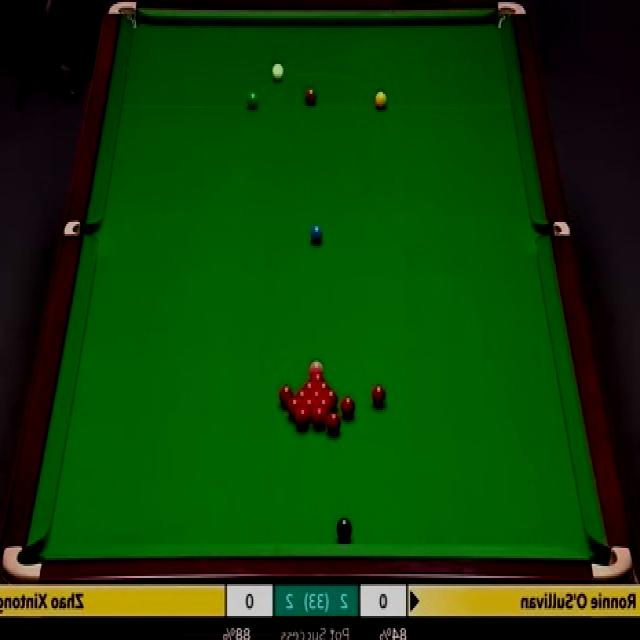black-ball: (336, 514, 354, 538)
blue-ball: (310, 225, 324, 242)
brown-ball: (305, 88, 316, 106)
green-ball: (245, 88, 260, 110)
pink-ball: (308, 363, 324, 378)
red-ball: (339, 394, 356, 417), (326, 412, 342, 436), (371, 384, 387, 406), (286, 397, 302, 419), (322, 389, 338, 410), (294, 406, 308, 428), (312, 407, 328, 426), (279, 386, 293, 407), (300, 379, 314, 399), (315, 382, 330, 394)
white-ball: (271, 62, 284, 82)
yellow-ball: (375, 90, 387, 110)
